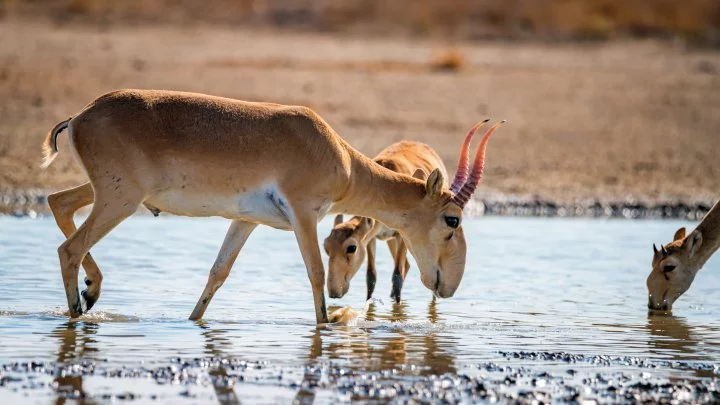saiga: (44, 86, 505, 313)
